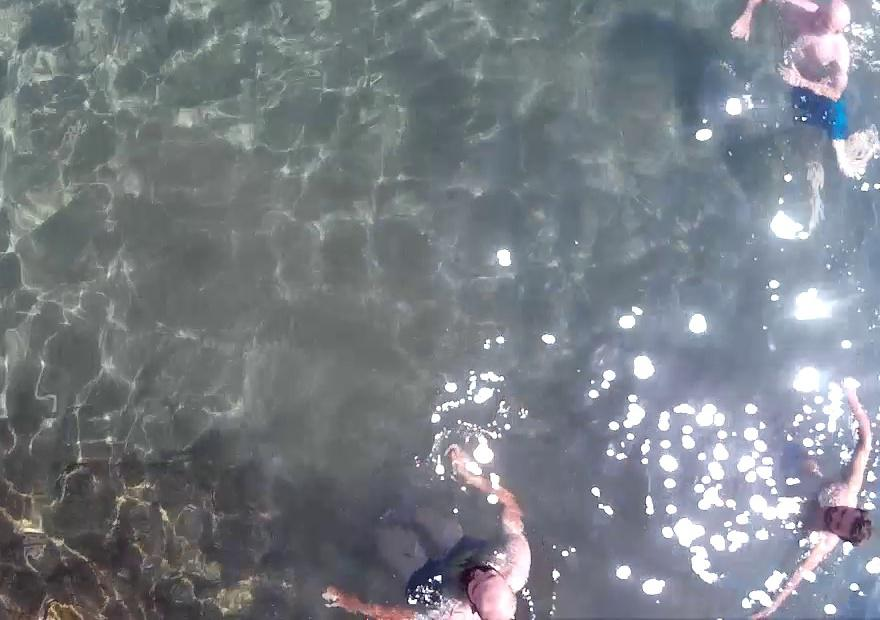human: (730, 0, 874, 202), (0, 1, 1, 1), (1, 1, 1, 1)
